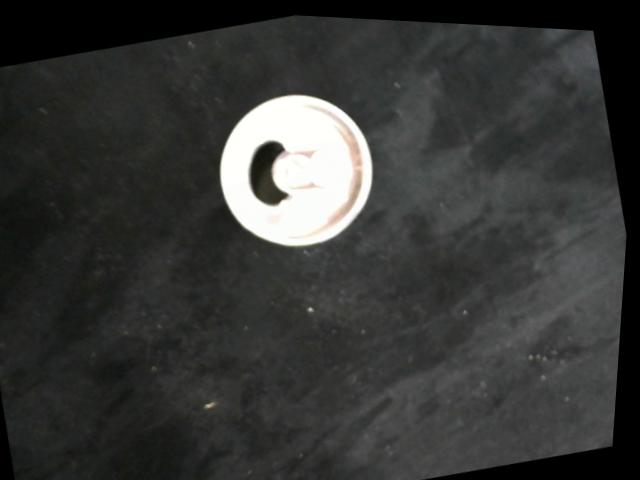can: (201, 70, 396, 264)
